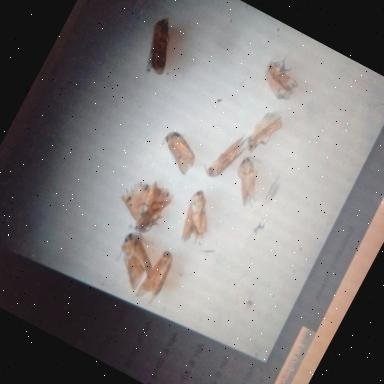abw: (108, 170, 178, 240), (103, 227, 164, 294), (132, 12, 188, 80), (198, 121, 254, 188), (169, 187, 223, 251), (221, 152, 273, 212), (254, 50, 308, 106), (152, 128, 204, 179), (134, 246, 178, 306), (242, 104, 287, 160)
